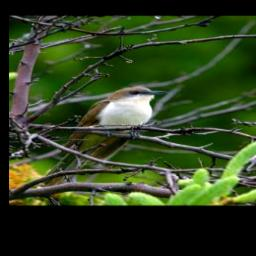Cuckoo: (34, 85, 162, 188)
